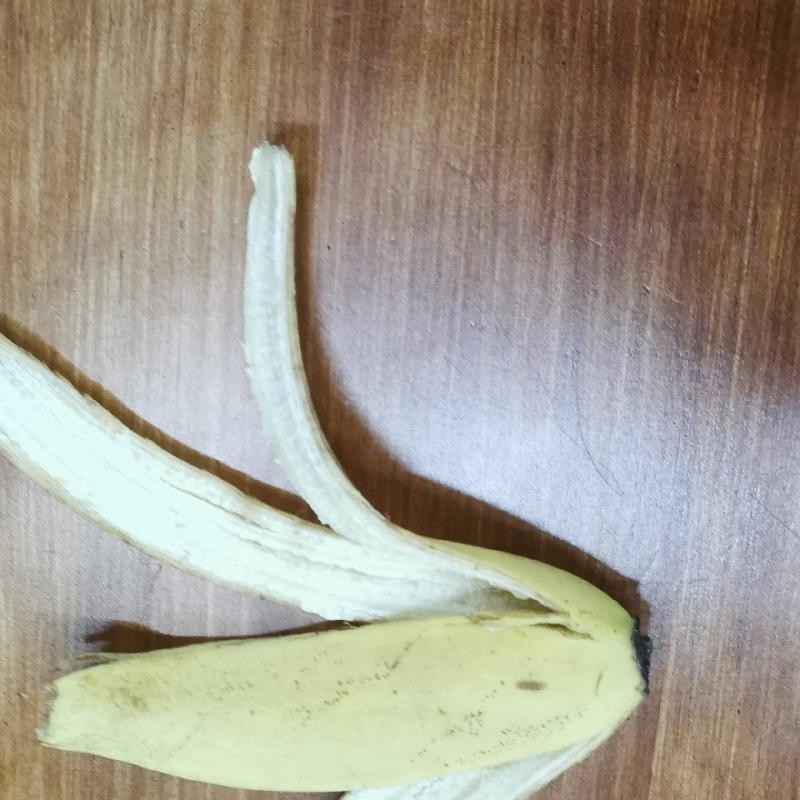bananas: (3, 137, 652, 800)
